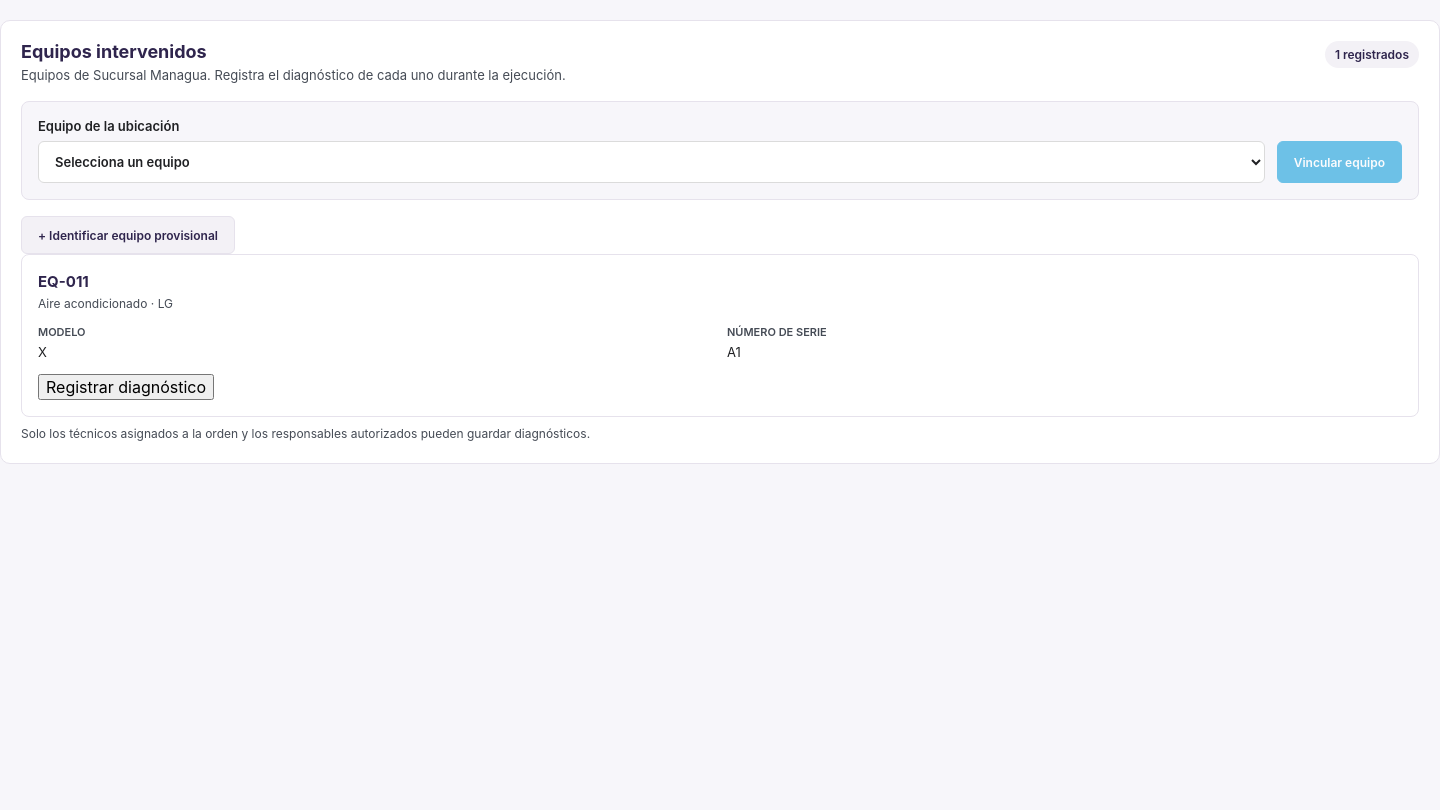
Test: Equipos de orden según Figma › mantiene el formulario ante error de API
Expected: the text "EQ-011" is shown, [38, 272, 89, 291]
Click the button "Registrar diagnóstico": (126, 387) [38, 374, 214, 400]
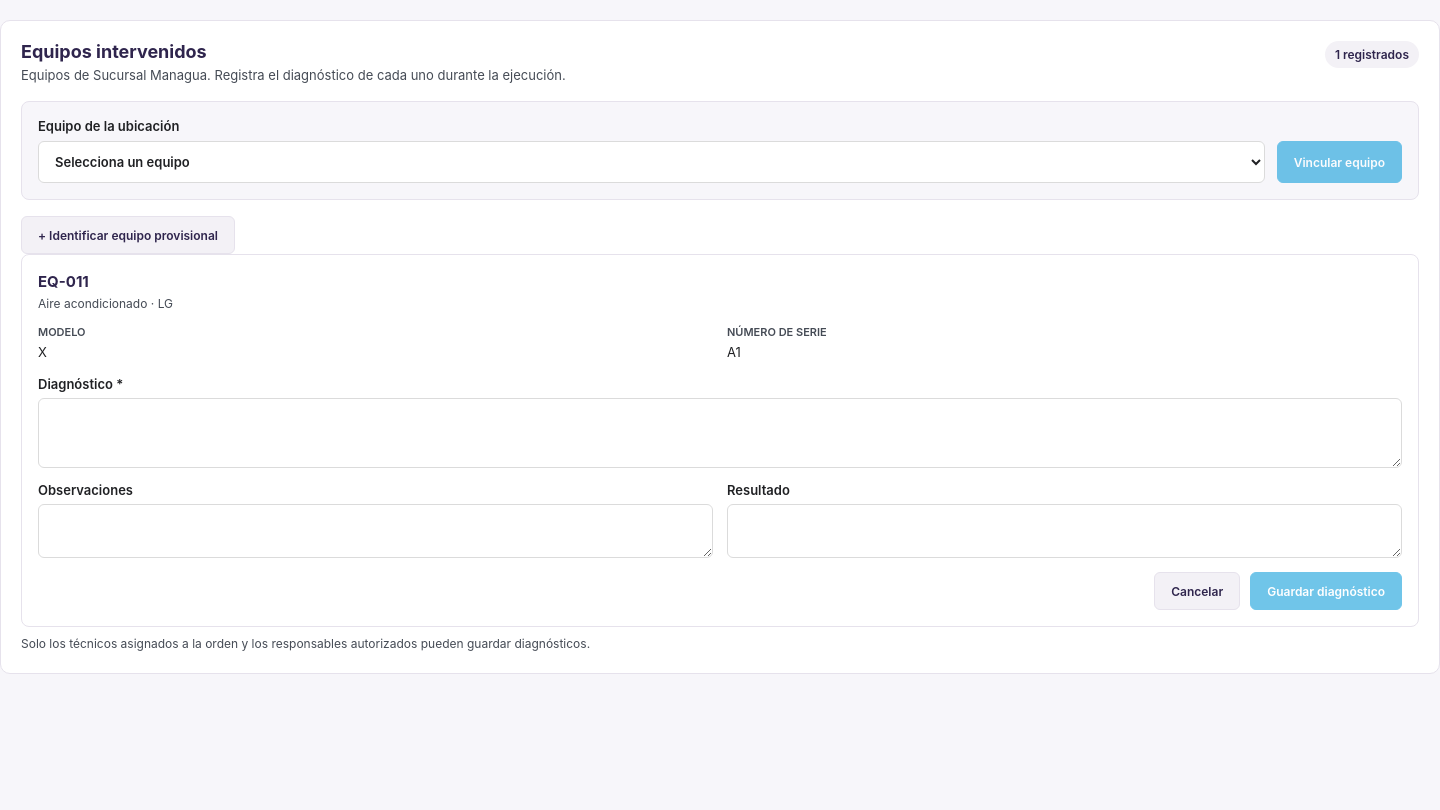
In the text box labelled "Diagnóstico": (720, 433) [38, 398, 1402, 468], type "Compresor está averiado"
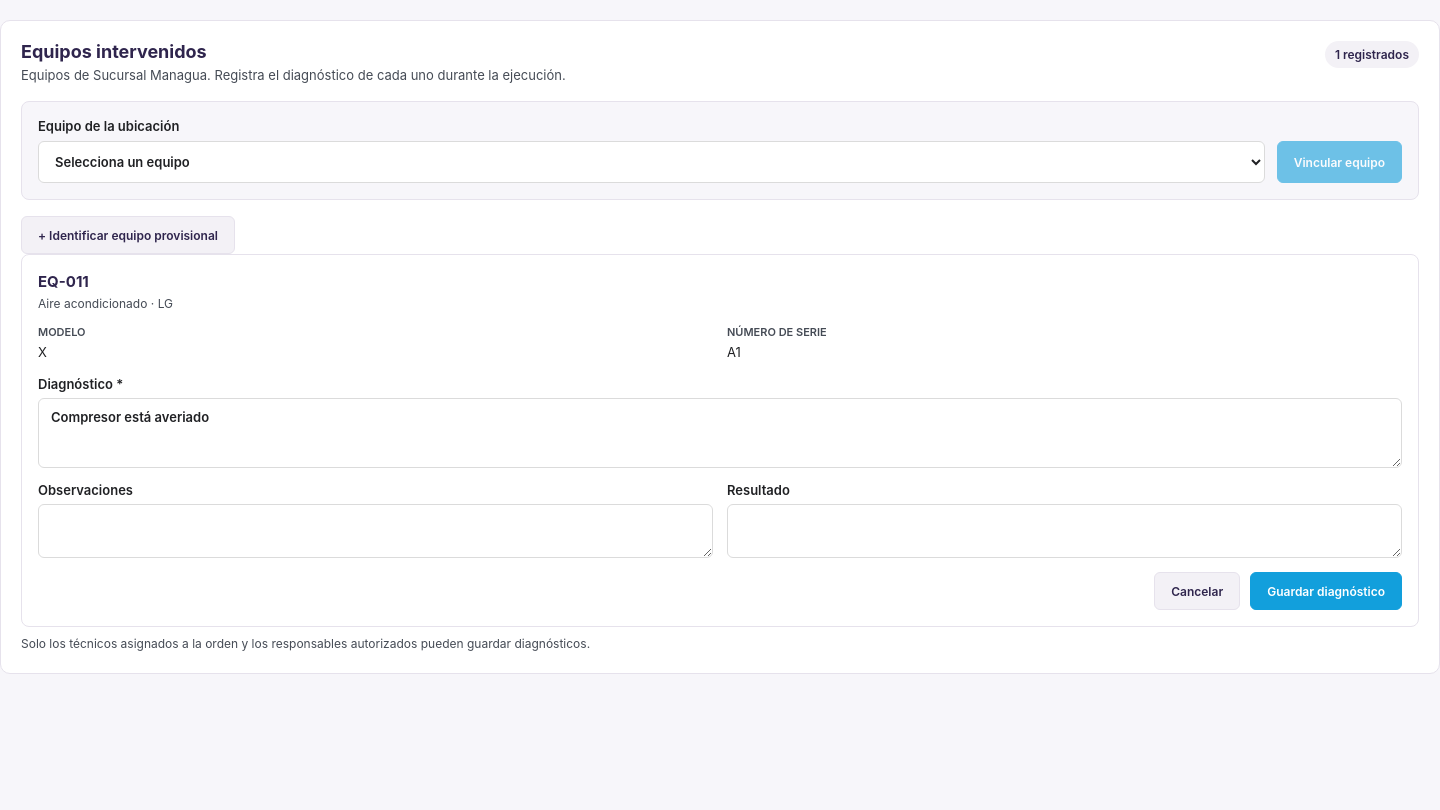
Click the button "Guardar diagnóstico": (1326, 591) [1250, 572, 1402, 610]
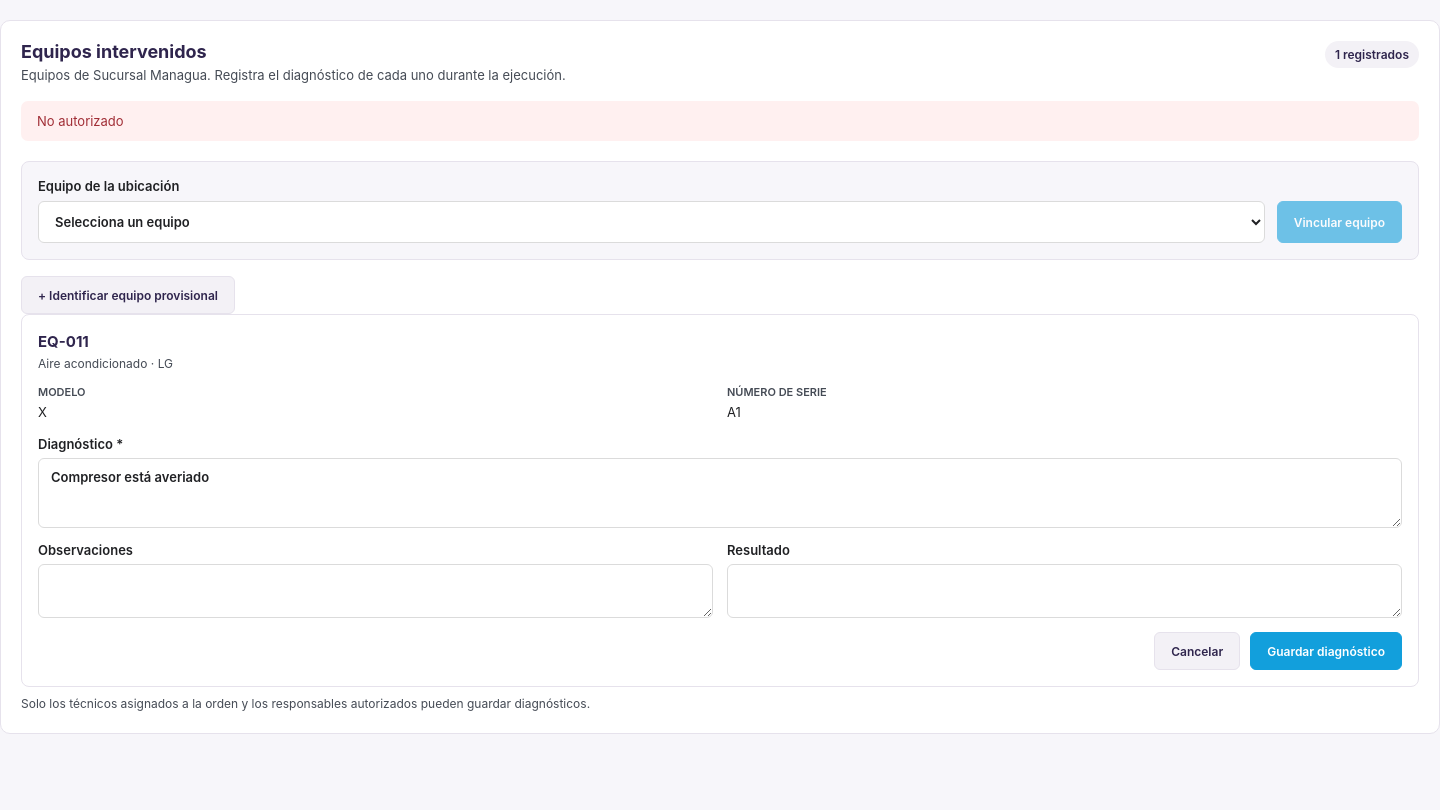
Now the message reads "No autorizado", box [37, 113, 124, 129]
